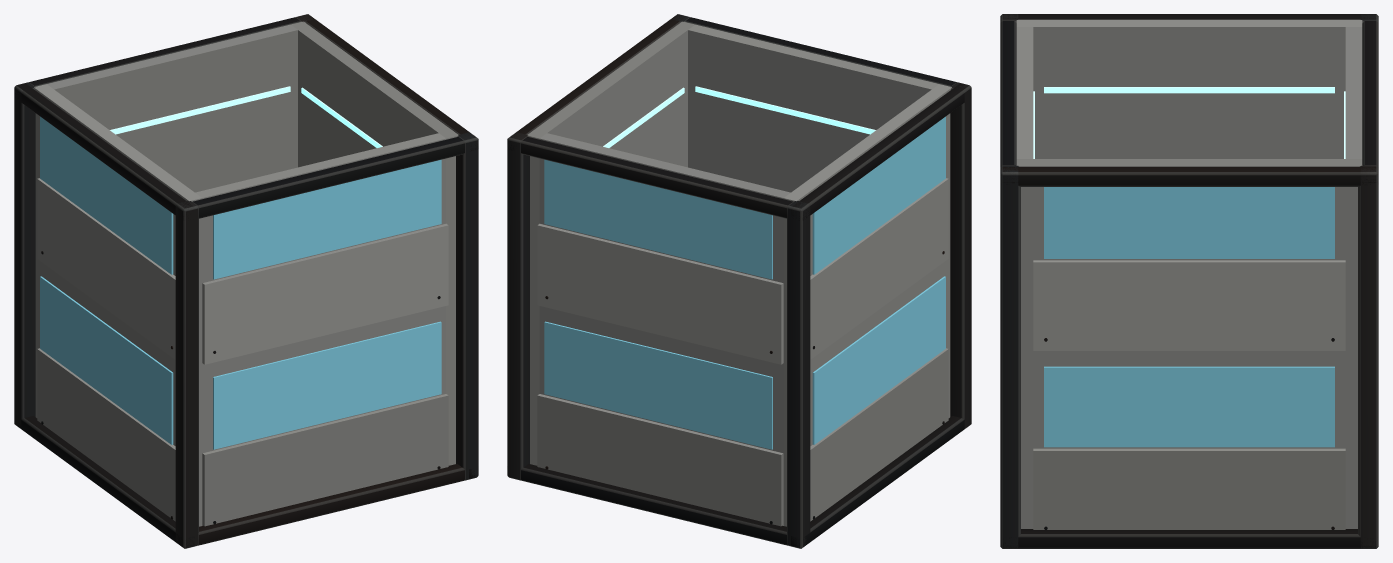
The model's file is chute_adv_v_straight.glb.
The picture shows the model from 3 angles, left to right: view 1: azimuth 30°, elevation 25°; view 2: azimuth 150°, elevation 25°; view 3: azimuth 270°, elevation 25°; orthographic projection. The views are drawn at different scales.
Parts seen in each view (by area): view 1: Frame, Power; view 2: Frame, Power; view 3: Frame, Power.
Boxes of the visible parts, x1,y1,x2,y2 form: Frame: [14, 14, 478, 548]; Power: [110, 86, 382, 147]; Frame: [507, 14, 971, 548]; Power: [603, 86, 875, 147]; Frame: [1000, 14, 1378, 548]; Power: [1033, 87, 1345, 158].
Bounding box in the file's own units: 1.82 × 2 × 1.82.
